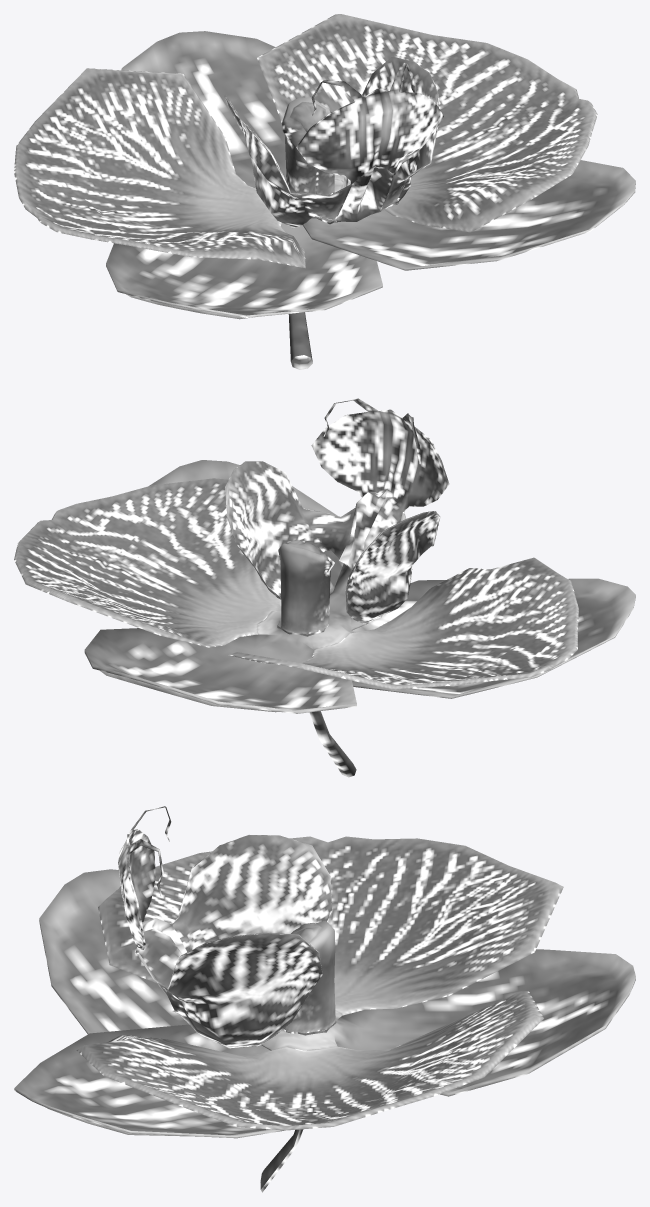
File: moth-orchid.glb
3 renders of one model, top to bottom at view 1: azimuth 30°, elevation 25°; view 2: azimuth 150°, elevation 25°; view 3: azimuth 270°, elevation 25°, orthographic. The views are drawn at different scales.
Bounding box in the file's own units: 0.1821 × 0.1072 × 0.1613.
Materials: 1 (1 with a texture image).
